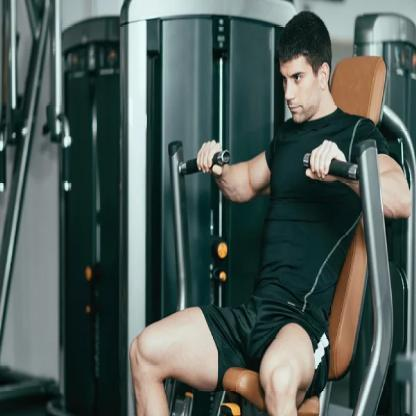Chest Press machine: (119, 0, 396, 416)
